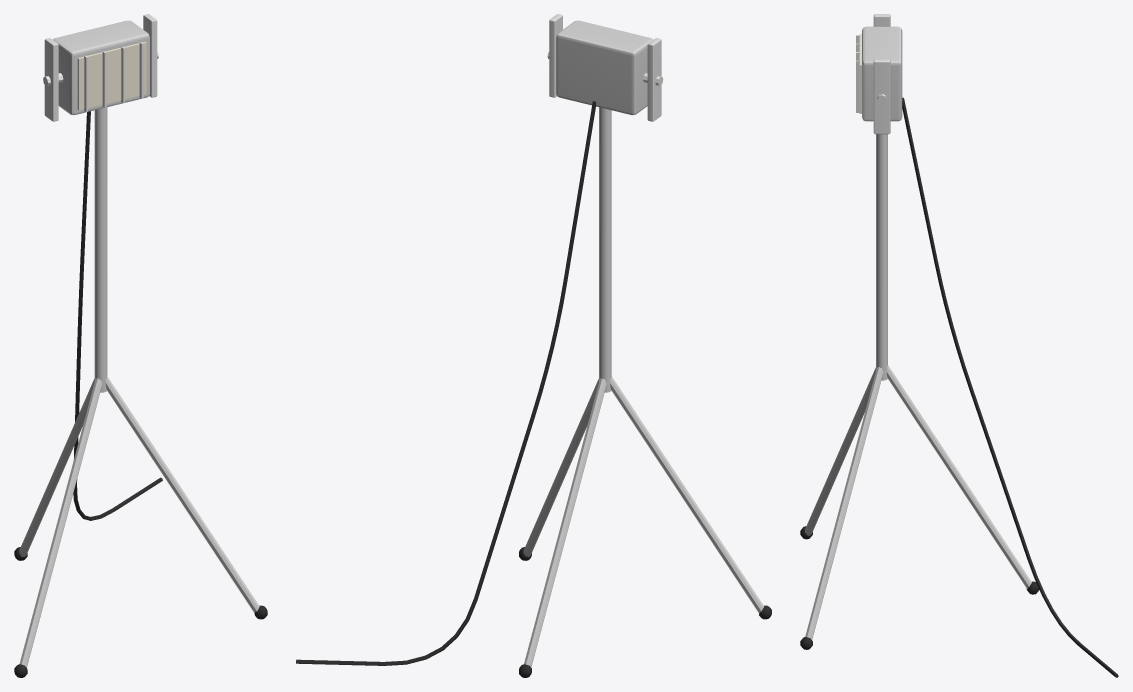
File: SM_WorkLight.fbx
3 renders of one model, left to right at view 1: azimuth 30°, elevation 25°; view 2: azimuth 150°, elevation 25°; view 3: azimuth 270°, elevation 25°, orthographic. The views are drawn at different scales.
Parts seen in each view (by area): view 1: SM_WorkLight_1; view 2: SM_WorkLight_1; view 3: SM_WorkLight_1.
Part boxes in pixels (x1=…): SM_WorkLight_1: x1=14, y1=14, x2=267, y2=677; SM_WorkLight_1: x1=296, y1=14, x2=771, y2=677; SM_WorkLight_1: x1=800, y1=14, x2=1118, y2=677.
Bounding box in the file's own units: 101 × 183 × 94.93.
